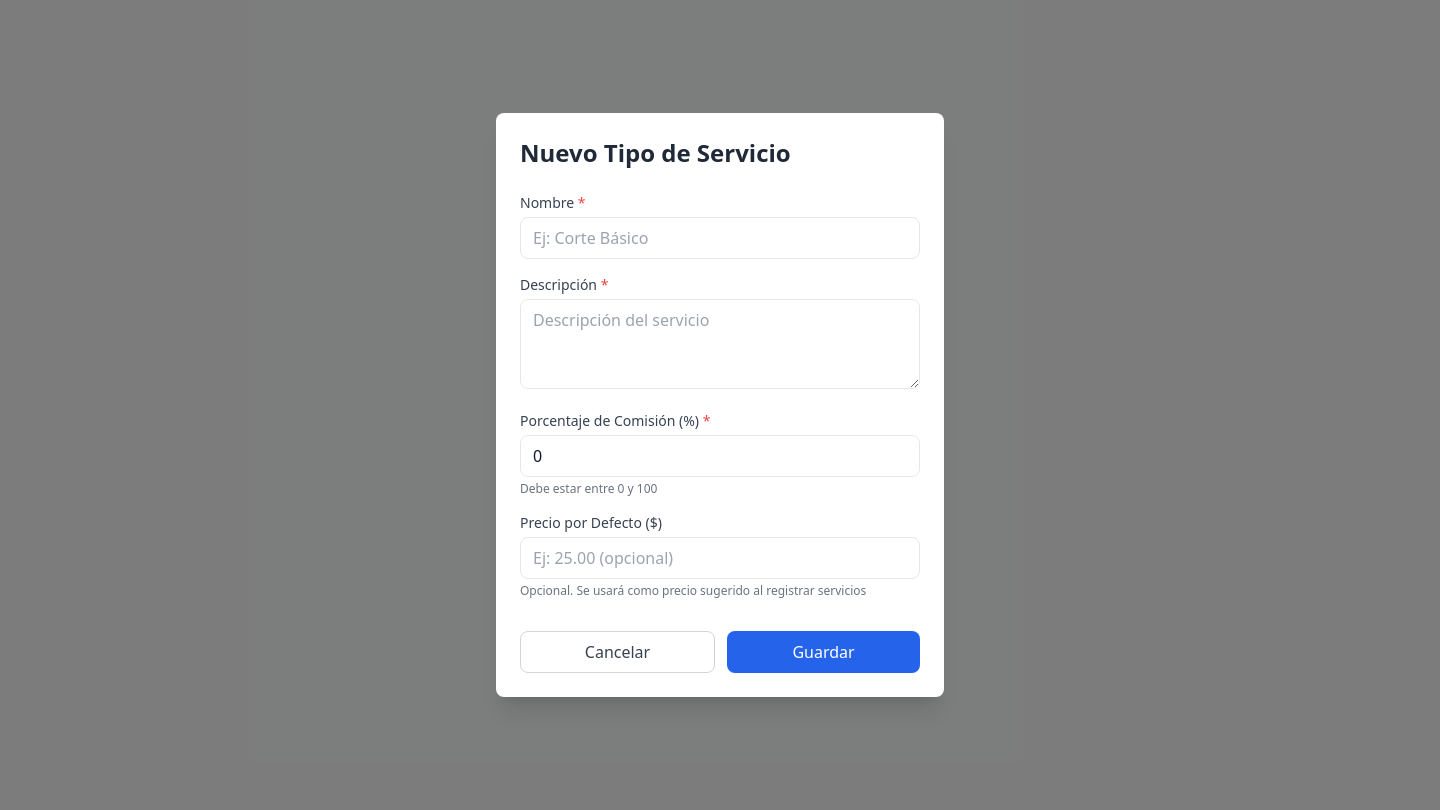
Test: TipoServicioForm › valida que la descripción es requerida
Step 1. Type "Corte Básico" into the field with placeholder "Ej: Corte Básico" → (720, 238), box [520,217,920,259]
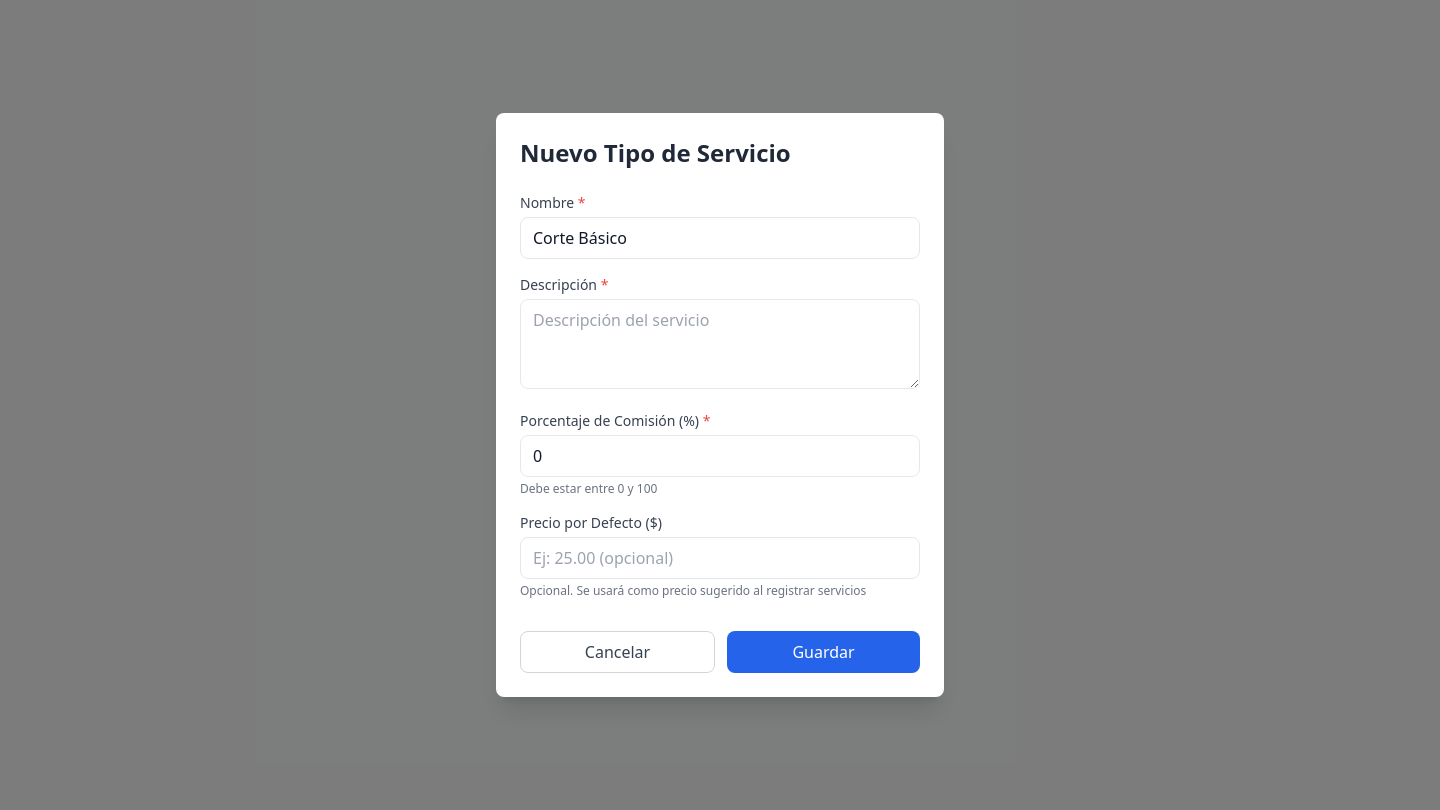
Step 2. Submit the form, box [520,193,920,673]
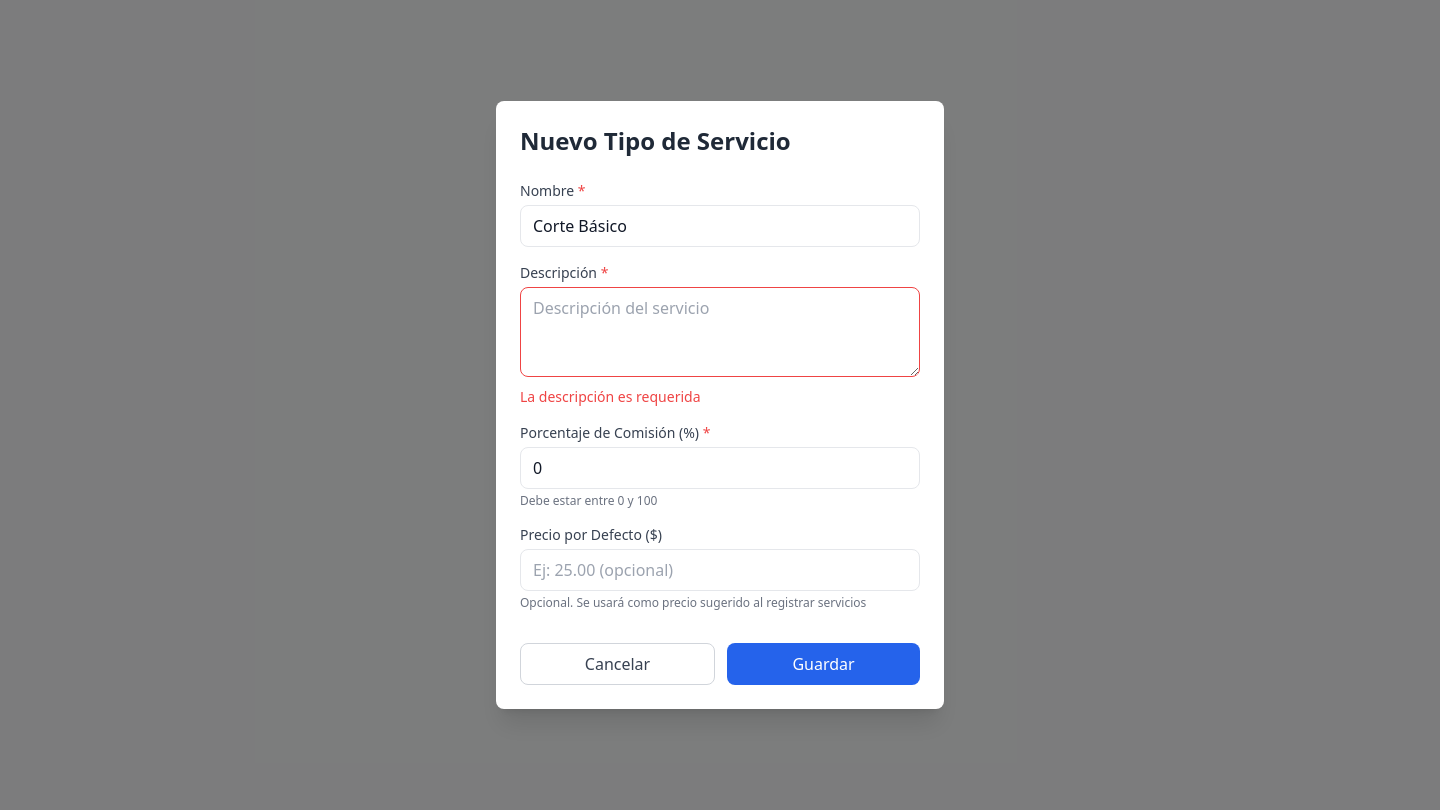
Expected: the text "La descripción es requerida" is shown, [520,387,700,406]
